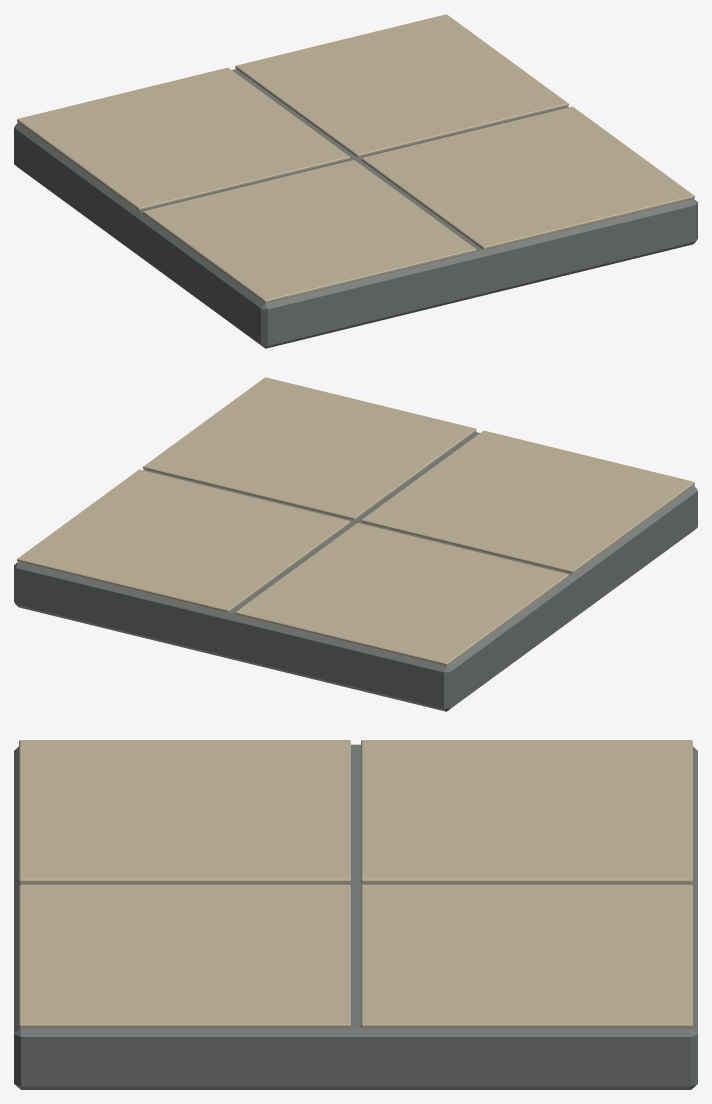
File: architecture-ceiling.lod0.glb
3 renders of one model, top to bottom at view 1: azimuth 30°, elevation 25°; view 2: azimuth 150°, elevation 25°; view 3: azimuth 270°, elevation 25°, orthographic. The views are drawn at different scales.
Parts seen in each view (by area): view 1: architecture-ceiling__body; view 2: architecture-ceiling__body; view 3: architecture-ceiling__body.
Boxes of the visible parts, x1,y1,x2,y2 form: architecture-ceiling__body: (14,14,697,348); architecture-ceiling__body: (14,377,697,711); architecture-ceiling__body: (14,740,697,1089).
Bounding box in the file's own units: 2 × 0.214 × 2.
